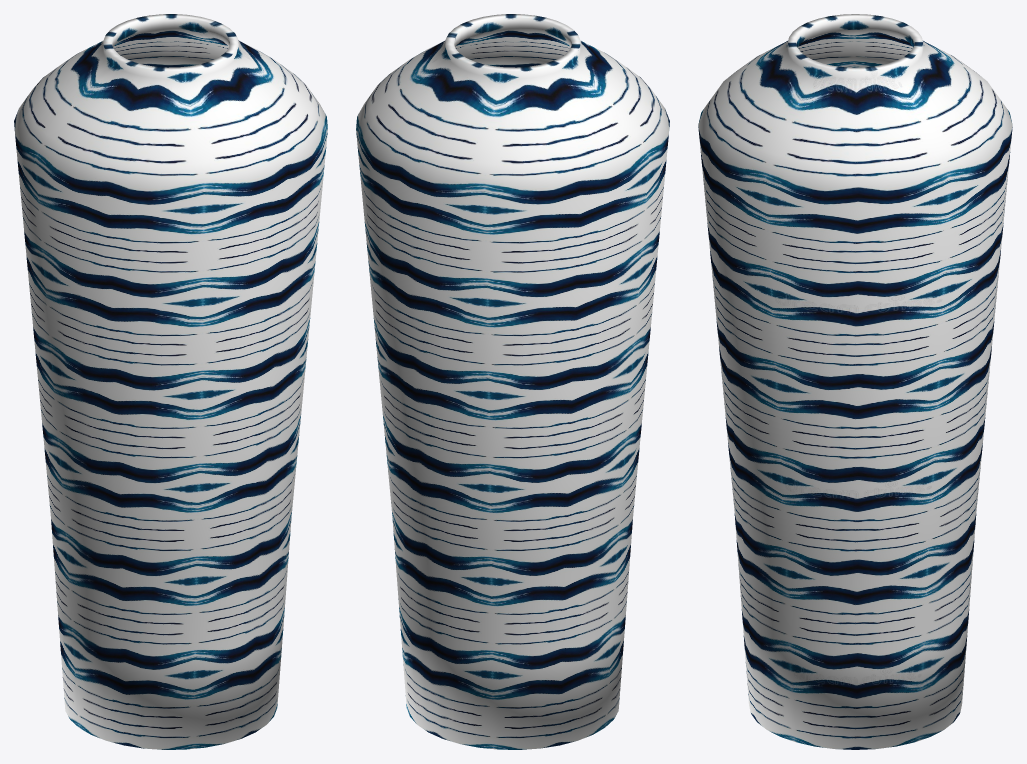
The model's file is vase1.fbx.
The picture shows the model from 3 angles, left to right: view 1: azimuth 30°, elevation 25°; view 2: azimuth 150°, elevation 25°; view 3: azimuth 270°, elevation 25°; orthographic projection.
Visible parts, largest first — view 1: Cylinder; view 2: Cylinder; view 3: Cylinder.
Boxes of the visible parts, x1,y1,x2,y2 form: Cylinder: [14, 14, 327, 749]; Cylinder: [356, 14, 669, 749]; Cylinder: [698, 14, 1012, 749].
Size of the model in its own units: 295 by 686 by 295.
